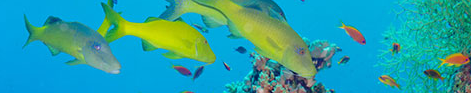fishLarge: (194, 0, 317, 79), (101, 3, 215, 64), (22, 13, 121, 74)
fishSmall: (339, 22, 366, 46), (439, 51, 470, 66), (423, 67, 447, 84), (376, 72, 401, 88), (191, 64, 205, 83), (170, 65, 193, 76)
